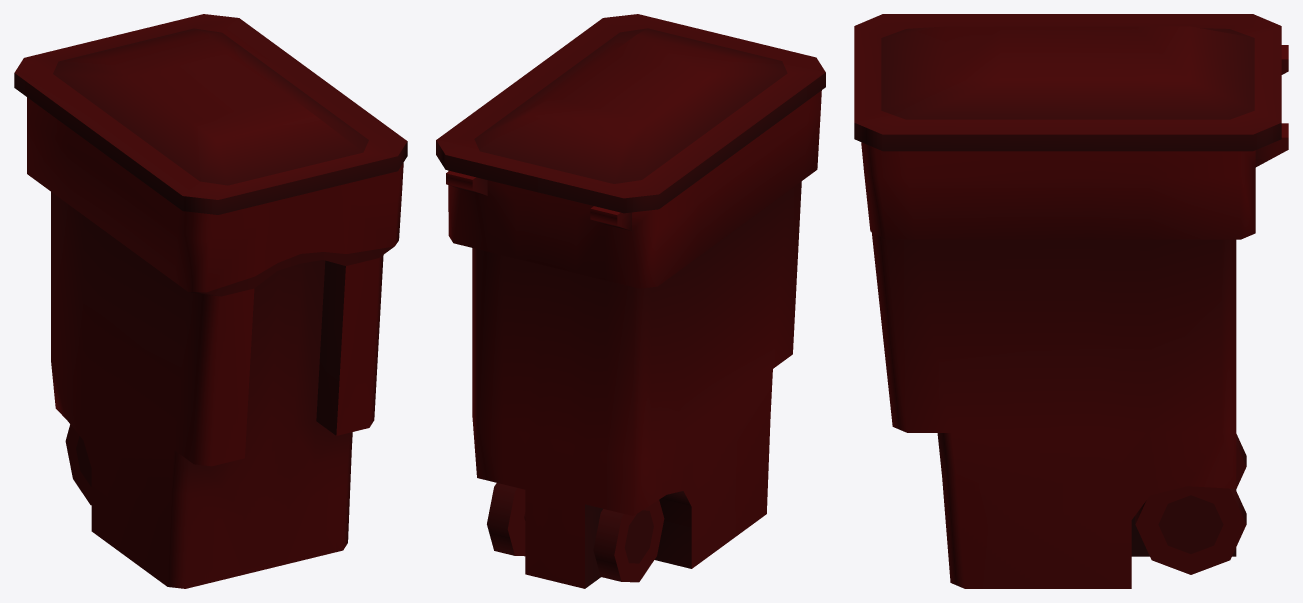
The model's file is WheelieBin.glb.
3 renders of one model, left to right at view 1: azimuth 30°, elevation 25°; view 2: azimuth 150°, elevation 25°; view 3: azimuth 270°, elevation 25°, orthographic. The views are drawn at different scales.
Parts seen in each view (by area): view 1: WheelieBin; view 2: WheelieBin; view 3: WheelieBin.
Part boxes in pixels (left/top/right/bottom): WheelieBin: left=14, top=14, right=407, bottom=588; WheelieBin: left=436, top=14, right=825, bottom=588; WheelieBin: left=854, top=14, right=1288, bottom=588.
Size of the model in its own units: 3.94 by 7.42 by 6.
